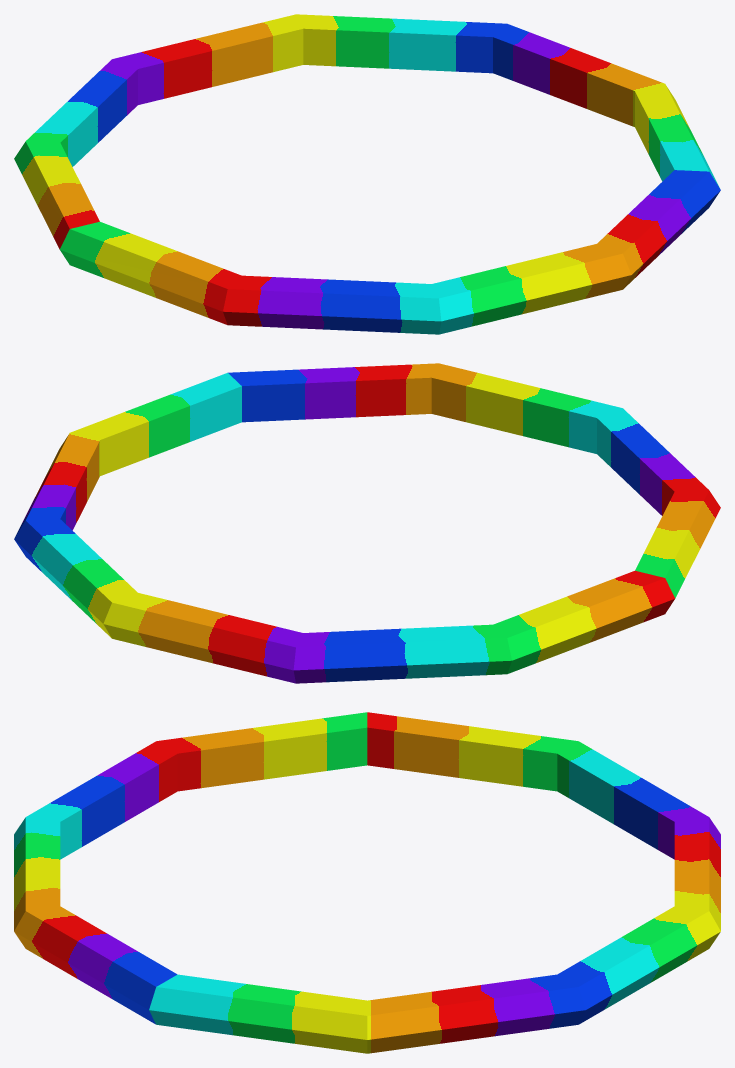
File: ringB.obj
3 renders of one model, top to bottom at view 1: azimuth 30°, elevation 25°; view 2: azimuth 150°, elevation 25°; view 3: azimuth 270°, elevation 25°, orthographic. The views are drawn at different scales.
Parts seen in each view (by area): view 1: pCylinder4; view 2: pCylinder4; view 3: pCylinder4.
Part boxes in pixels (box(x1,y1,x2,y2)): pCylinder4: box(14, 14, 720, 334); pCylinder4: box(14, 363, 720, 683); pCylinder4: box(14, 712, 720, 1053).
Bounding box in the file's own units: 71.25 × 4 × 67.77.
